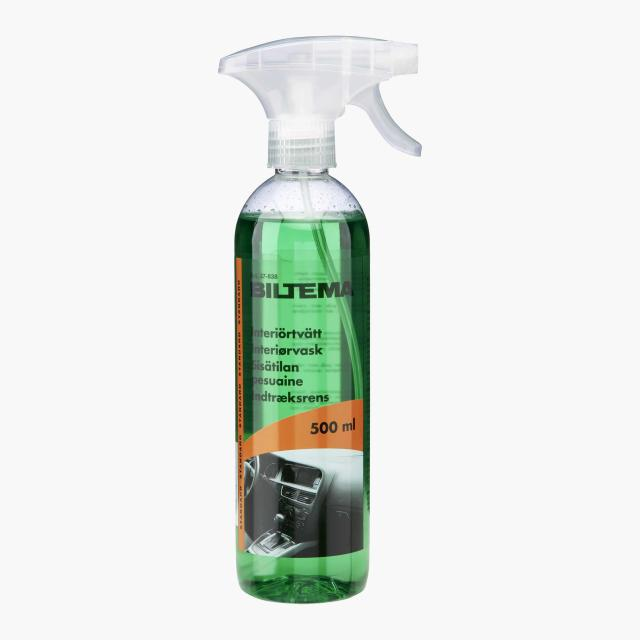winwinshield_washer: (217, 31, 429, 607)
